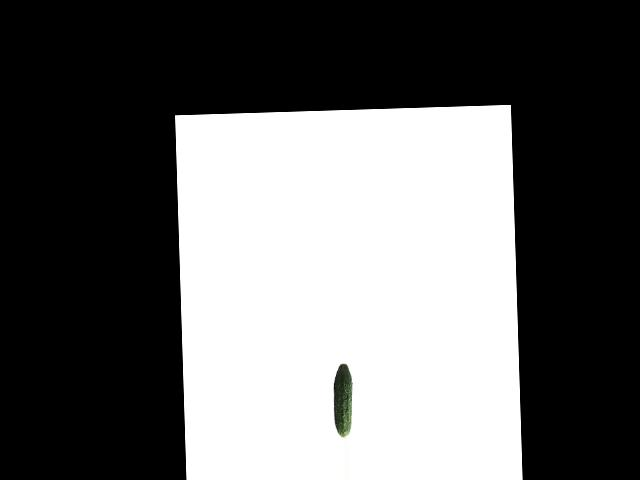cucumber: (332, 363, 353, 437)
